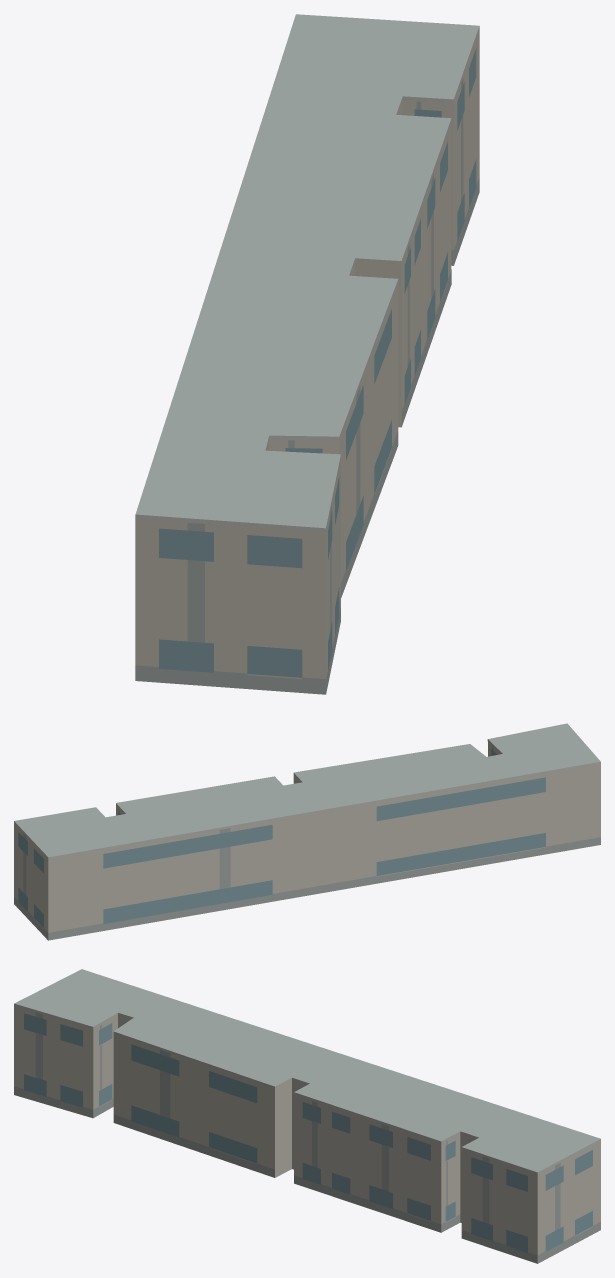
The model's file is residential-035edbcc-712b-4ec1-8b72-9c11c6493e22.glb.
3 renders of one model, top to bottom at view 1: azimuth 30°, elevation 25°; view 2: azimuth 150°, elevation 25°; view 3: azimuth 270°, elevation 25°, orthographic. The views are drawn at different scales.
Parts seen in each view (by area): view 1: residential-035edbcc-712b-4ec1-8b72-9c11c6493e22.tmp; view 2: residential-035edbcc-712b-4ec1-8b72-9c11c6493e22.tmp; view 3: residential-035edbcc-712b-4ec1-8b72-9c11c6493e22.tmp.
Part boxes in pixels (x1,y1,x2,y2): residential-035edbcc-712b-4ec1-8b72-9c11c6493e22.tmp: [135, 14, 479, 694]; residential-035edbcc-712b-4ec1-8b72-9c11c6493e22.tmp: [14, 723, 600, 940]; residential-035edbcc-712b-4ec1-8b72-9c11c6493e22.tmp: [14, 969, 600, 1263].
Size of the model in its own units: 43.68 by 9.15 by 53.25.
